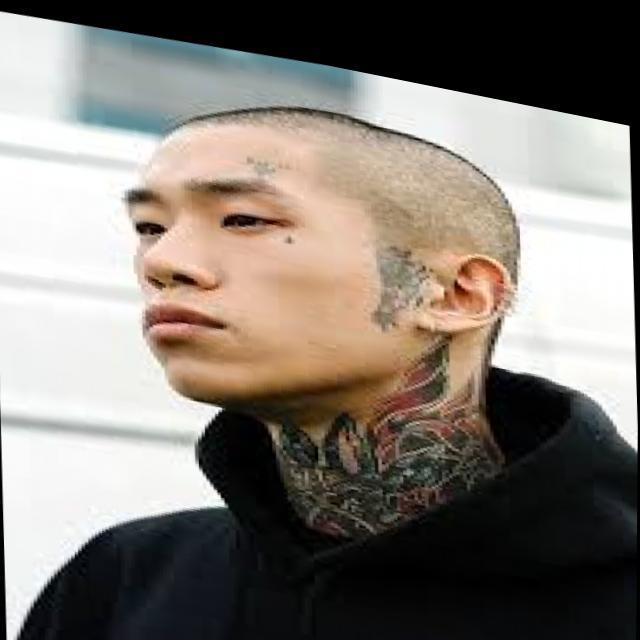Nonhelmet: (104, 84, 526, 438)
